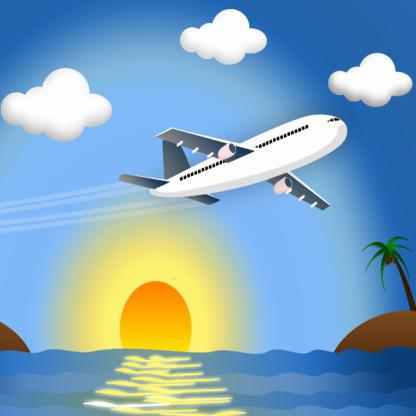CIV_Plane: (112, 108, 348, 217)
